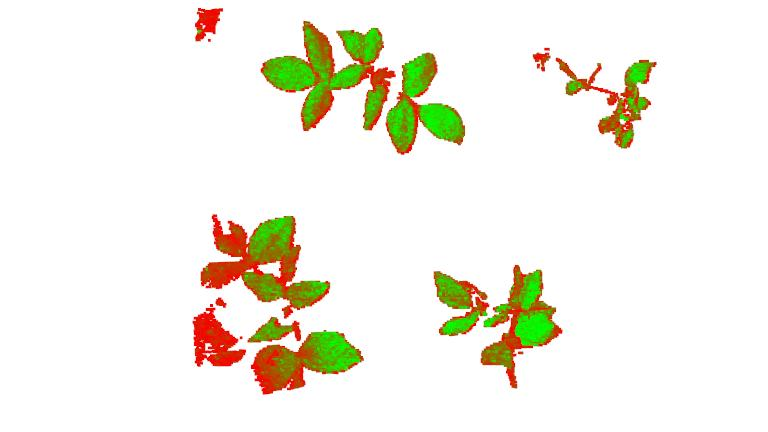mungbean: (209, 211, 362, 394), (261, 15, 469, 148), (432, 260, 562, 390), (529, 46, 665, 153)
